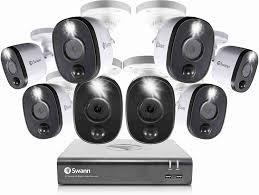tutu: (50, 8, 123, 87)
